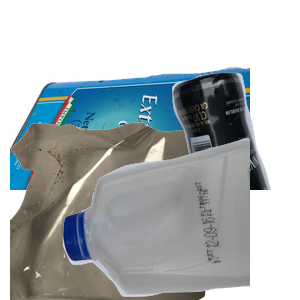glass: (106, 70, 300, 250)
metal: (10, 64, 250, 244)
plastic: (60, 135, 300, 300)
trash: (10, 120, 250, 300)
